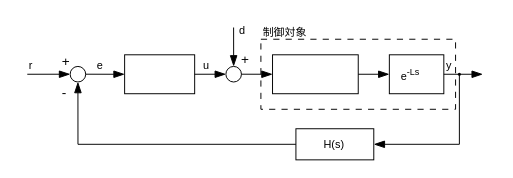
Image size: 513x178. Some labels were removed from this diagram. Each missing label, with the centre of its shape:
"C(s) Kp + Ki/s" goes at (x=159, y=74).
"G(s) K / ( τ s+1)" goes at (x=315, y=74).
